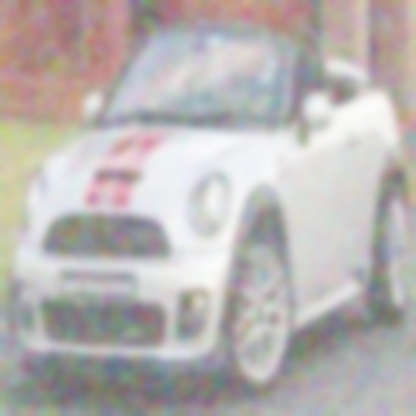Vehicle: (12, 24, 412, 399)
